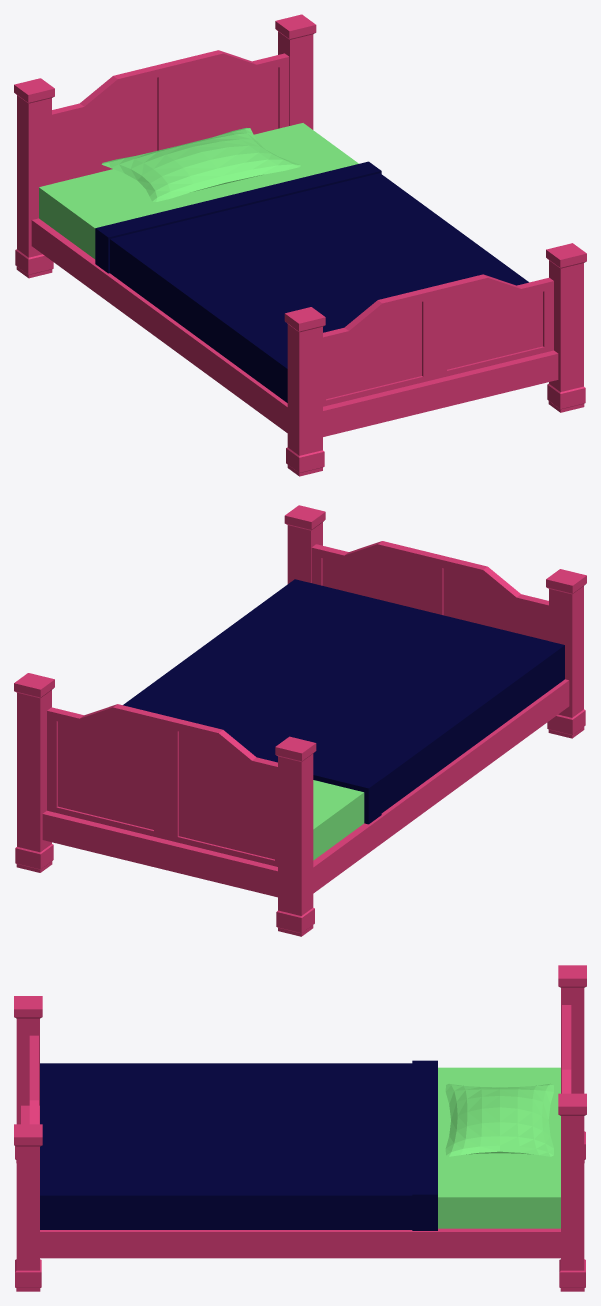
The model's file is Bed_09.fbx.
3 renders of one model, top to bottom at view 1: azimuth 30°, elevation 25°; view 2: azimuth 150°, elevation 25°; view 3: azimuth 270°, elevation 25°, orthographic.
Parts seen in each view (by area): view 1: Bed_09; view 2: Bed_09; view 3: Bed_09.
Boxes of the visible parts, x1=… form: Bed_09: x1=14, y1=14, x2=586, y2=476; Bed_09: x1=14, y1=505, x2=586, y2=936; Bed_09: x1=14, y1=965, x2=586, y2=1291.
Size of the model in its own units: 121 by 73.89 by 207.
